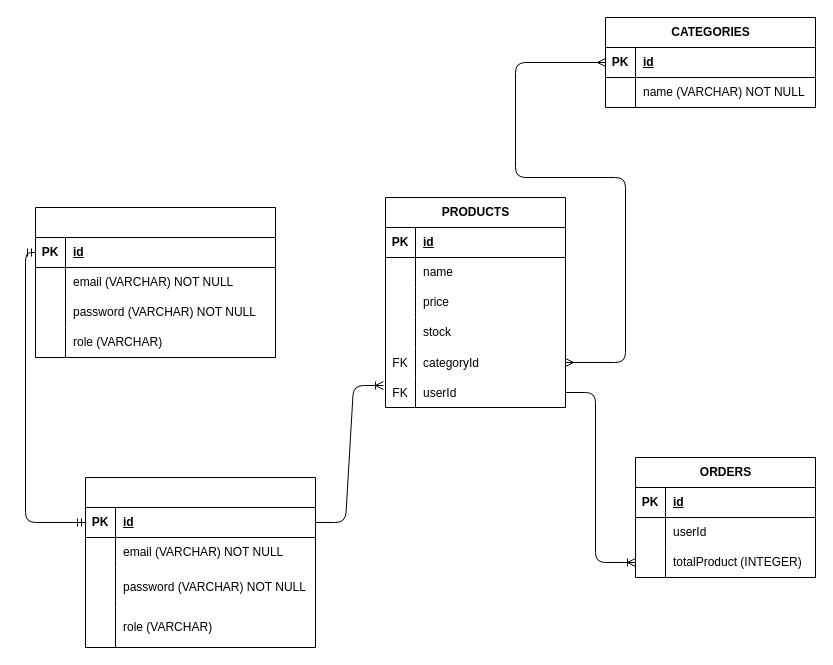
The diagram is 833 pixels wide and 665 high, and some of its shapes have lost their labels. The shapes that lost their labels are listed below. From the top down, each one's box as (x1, y1, x2, y2) in pixels, then its label:
(34, 206, 276, 358): PROFILES
(84, 476, 316, 648): USERS
